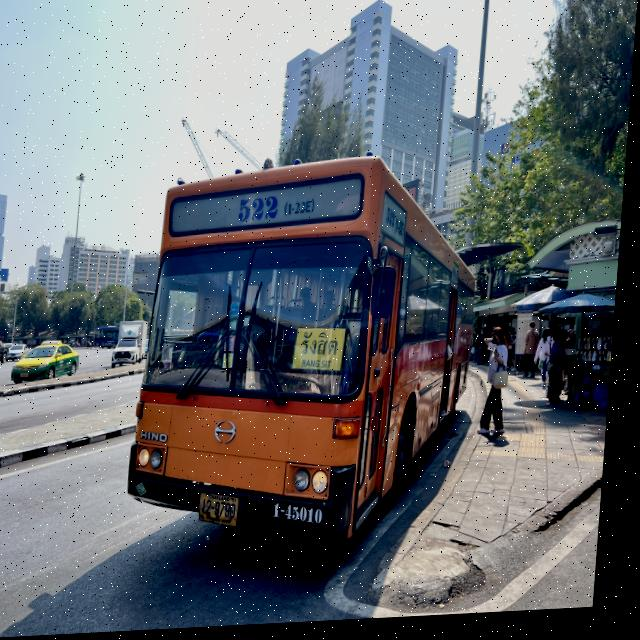BMTA-bus: (134, 162, 481, 547)
Bus Line Number: (235, 193, 322, 228)
Bus Side Number: (278, 501, 335, 534)
Destination Sign: (296, 327, 352, 379)
